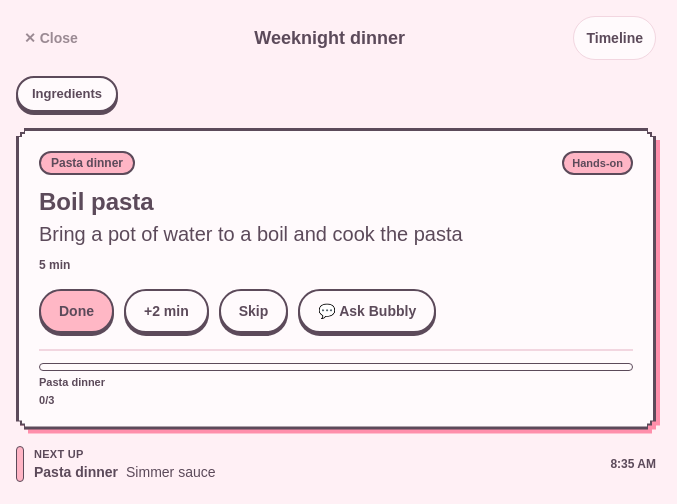
Test: MealCookPage — Done / +2 min / Skip › Done advances the Now card; +2 min shifts the dependent step by exactly 2 minutes; no extra fetch
The image size is (677, 504).
expect the text "Boil pasta" is shown: met, box [39,188,154,215]
Click the button with aria-label "Add 2 minutes".
click(166, 310)  # box [124,288,209,332]
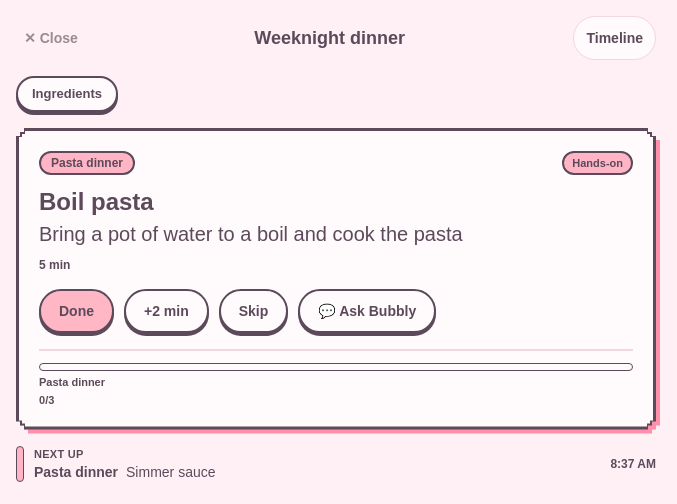
Click the button "Done".
click(76, 310)  # box [39,288,114,332]
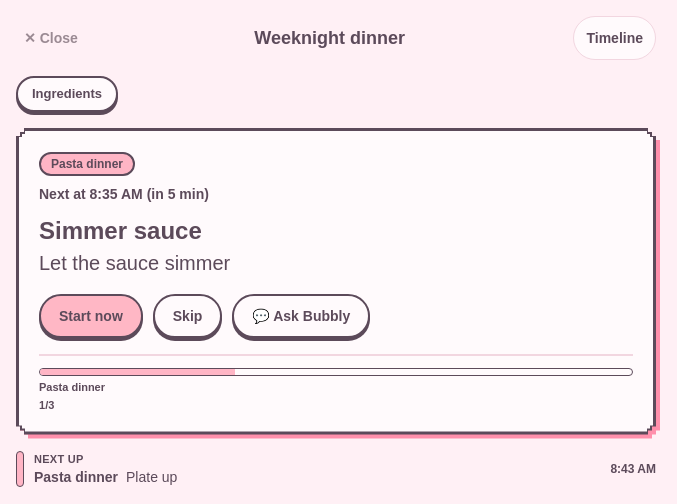
expect the text "Boil pasta" is gone: met
expect the text "Simmer sauce" is shown: met, box [39,217,202,244]
